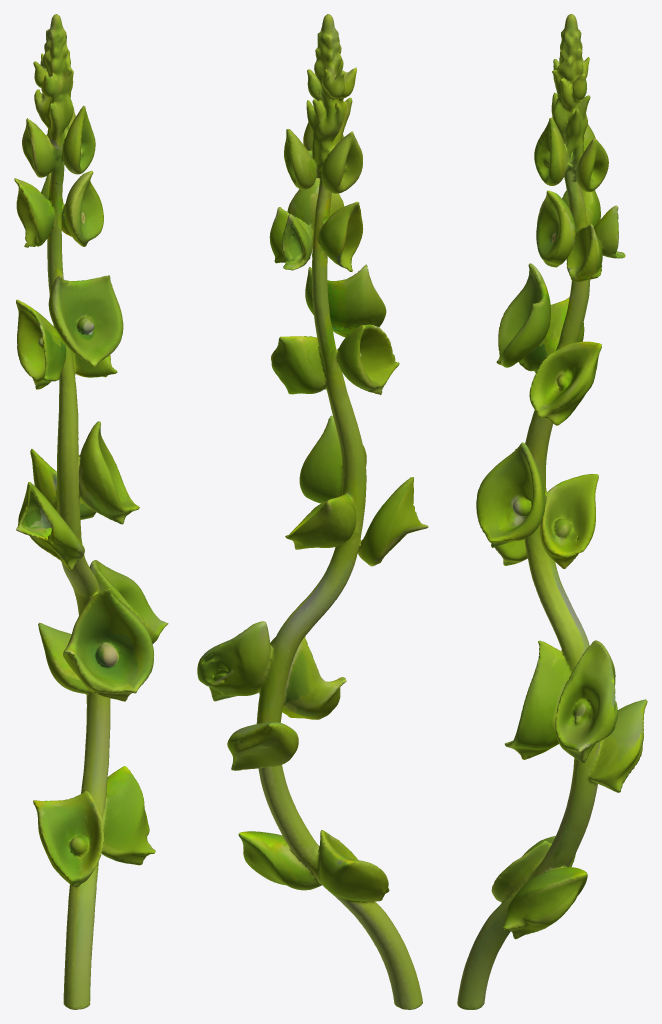
Rendered from morusera.glb.
The picture shows the model from 3 angles, left to right: view 1: azimuth 30°, elevation 25°; view 2: azimuth 150°, elevation 25°; view 3: azimuth 270°, elevation 25°; orthographic projection. The views are drawn at different scales.
Visible parts, largest first — view 1: tripo_node_34bee3cb-3105-4890-af82-749be7b2a3a3; view 2: tripo_node_34bee3cb-3105-4890-af82-749be7b2a3a3; view 3: tripo_node_34bee3cb-3105-4890-af82-749be7b2a3a3.
Boxes of the visible parts, x1=… form: tripo_node_34bee3cb-3105-4890-af82-749be7b2a3a3: x1=14, y1=14, x2=168, y2=1009; tripo_node_34bee3cb-3105-4890-af82-749be7b2a3a3: x1=197, y1=14, x2=428, y2=1009; tripo_node_34bee3cb-3105-4890-af82-749be7b2a3a3: x1=457, y1=14, x2=647, y2=1009.
Bounding box in the file's own units: 0.2016 × 1 × 0.1717.
1 material, 1 textured.
